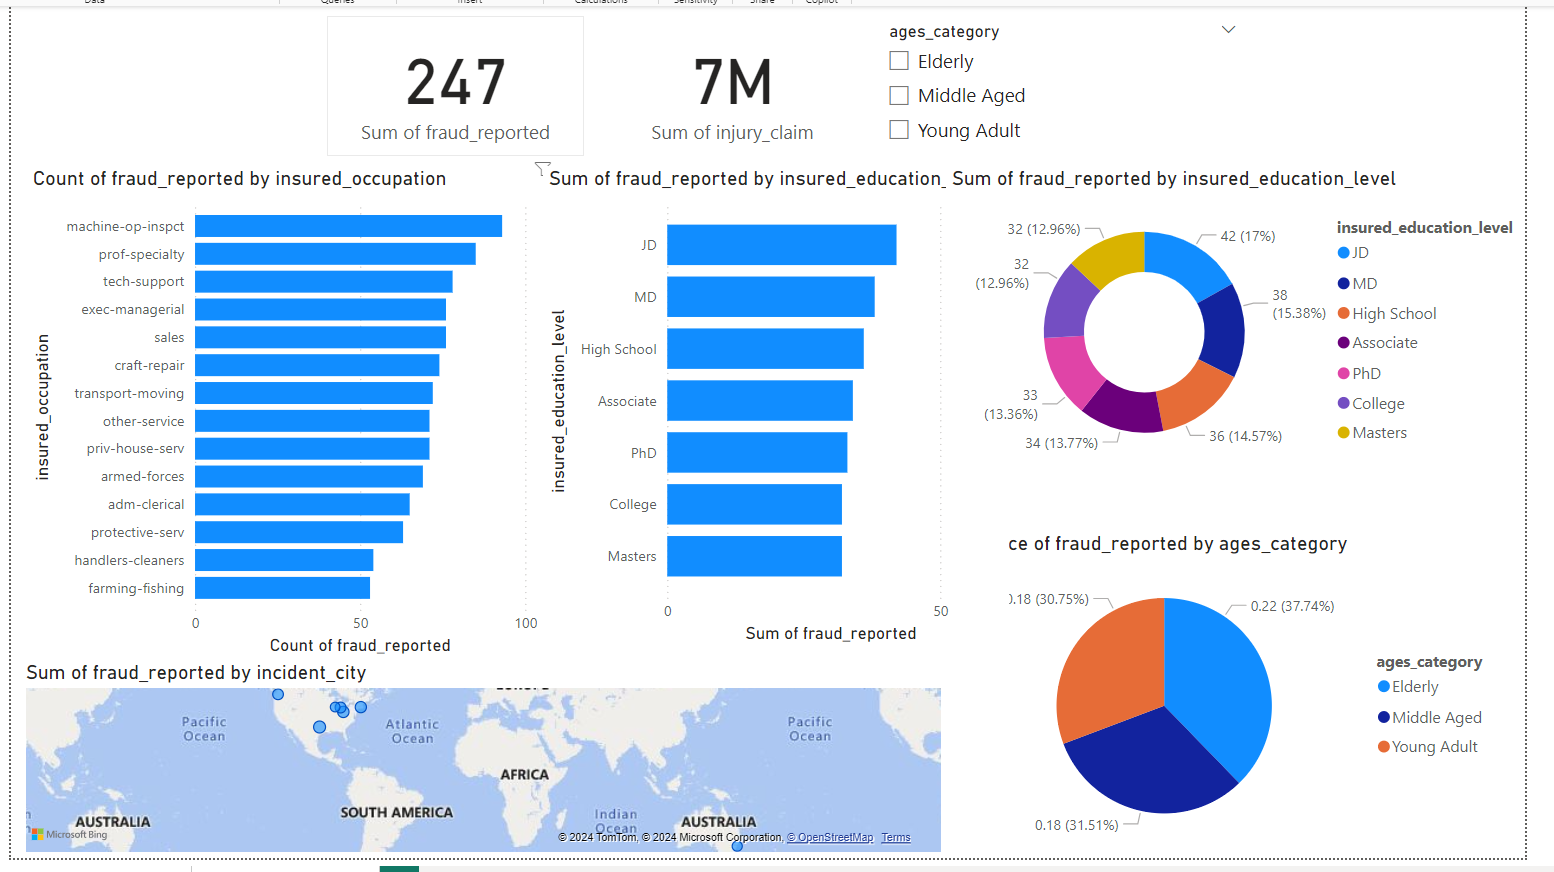

The page's visual inventory and layout, read from the dashboard file:
{"tool":"powerbi","page":{"name":"Fraud Detection & Analysis","canvas":[1280,720],"ordinal":1},"visuals":[{"type":"clusteredBarChart","fields":{"Category":["advanced_features_claims_data.insured_occupation"],"Y":["CountNonNull(advanced_features_claims_data.fraud_reported)"]},"box":[13.5,135.2,436.1,417.5],"z":0},{"type":"pieChart","fields":{"Y":["Sum(advanced_features_claims_data.fraud_reported)"],"Category":["advanced_features_claims_data.ages_category"]},"box":[790.1,443.7,475.8,276.3],"z":1000},{"type":"card","fields":{"Values":["Sum(advanced_features_claims_data.fraud_reported)"]},"box":[267,8.5,217.2,118.3],"z":2000},{"type":"barChart","fields":{"Category":["advanced_features_claims_data.insured_education_level"],"Y":["Sum(advanced_features_claims_data.fraud_reported)"]},"box":[449.6,135.2,393.8,407.3],"z":3000},{"type":"slicer","fields":{"Values":["advanced_features_claims_data.ages_category"]},"box":[729.3,8.5,318.6,118.3],"z":3001},{"type":"map","fields":{"Size":["Sum(advanced_features_claims_data.fraud_reported)"],"Category":["advanced_features_claims_data.incident_city"]},"box":[7.6,552.7,782.5,167.3],"z":3002},{"type":"donutChart","fields":{"Y":["Sum(advanced_features_claims_data.fraud_reported)"],"Category":["advanced_features_claims_data.insured_education_level"]},"box":[790.1,135.2,490.1,262],"z":3003},{"type":"card","fields":{"Values":["Sum(advanced_features_claims_data.injury_claim)"]},"box":[490.1,8.5,239.2,118.3],"z":3004}]}

Visuals, with their boxes on the page's 1280x720 design canvas (x1, y1, x2, y2). These are canvas units, not pixel positions in the 1554x872 screenshot, which may show the page scaled, cropped or inside an application window:
clusteredBarChart - advanced_features_claims_data.insured_occupation x CountNonNull(advanced_features_claims_data.fraud_reported): (14, 135, 450, 553)
pieChart - Sum(advanced_features_claims_data.fraud_reported) x advanced_features_claims_data.ages_category: (790, 444, 1266, 720)
card - Sum(advanced_features_claims_data.fraud_reported): (267, 8, 484, 127)
barChart - advanced_features_claims_data.insured_education_level x Sum(advanced_features_claims_data.fraud_reported): (450, 135, 843, 542)
slicer - advanced_features_claims_data.ages_category: (729, 8, 1048, 127)
map - Sum(advanced_features_claims_data.fraud_reported) x advanced_features_claims_data.incident_city: (8, 553, 790, 720)
donutChart - Sum(advanced_features_claims_data.fraud_reported) x advanced_features_claims_data.insured_education_level: (790, 135, 1280, 397)
card - Sum(advanced_features_claims_data.injury_claim): (490, 8, 729, 127)
